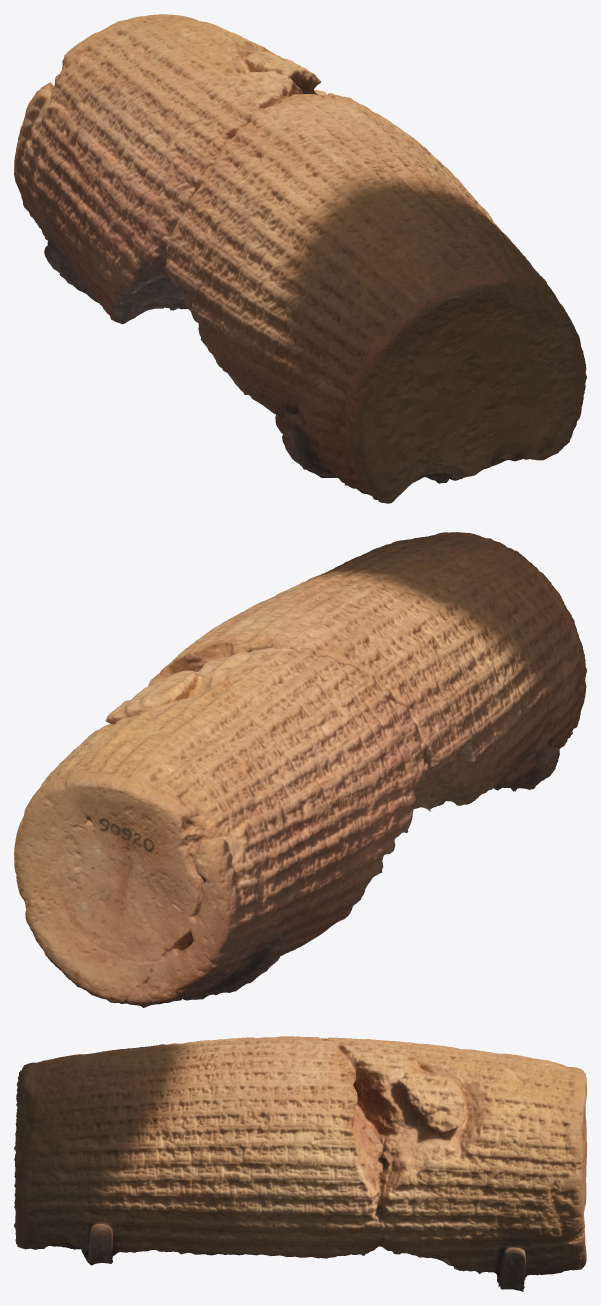
The model's file is cyrus-cylinder.glb.
The picture shows the model from 3 angles, top to bottom: view 1: azimuth 30°, elevation 25°; view 2: azimuth 150°, elevation 25°; view 3: azimuth 270°, elevation 25°; orthographic projection. The views are drawn at different scales.
Bounding box in the file's own units: 18.6 × 17.42 × 40.32.
1 material, 1 textured.
